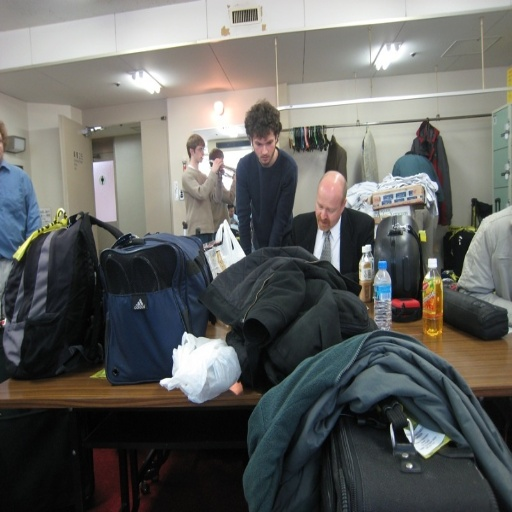hand: (211, 154, 225, 168)
